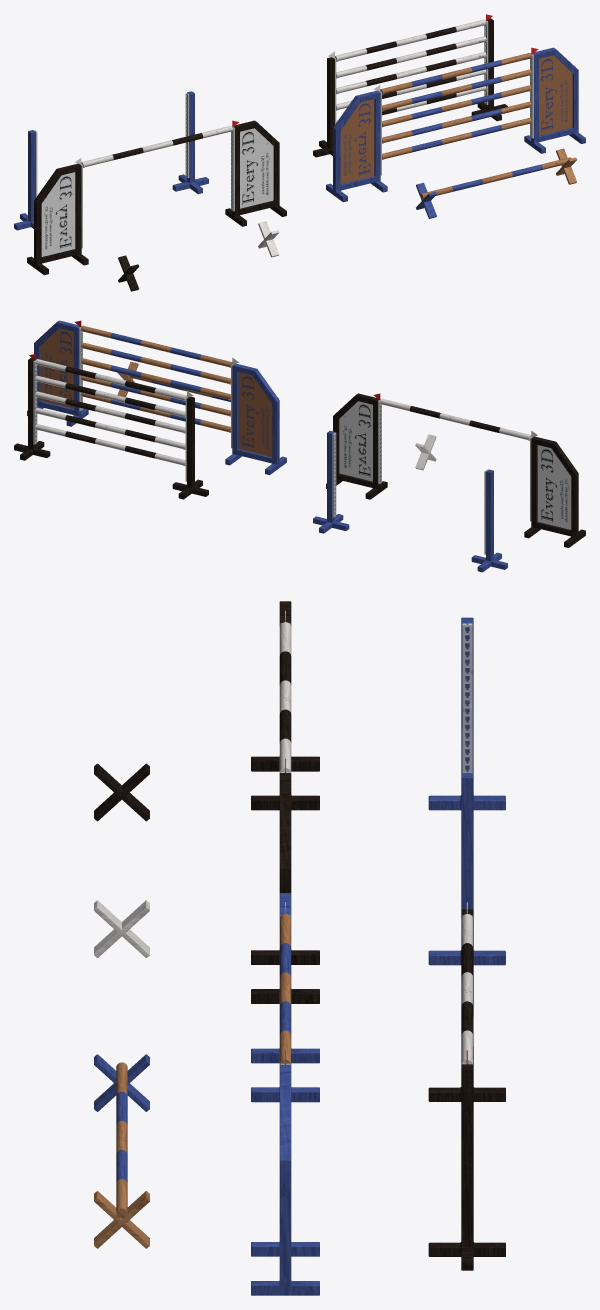
Rendered from jumps.glb.
3 views of the same model, one above another, from view 1: azimuth 30°, elevation 25°; view 2: azimuth 150°, elevation 25°; view 3: azimuth 270°, elevation 25° (orthographic). The views are drawn at different scales.
Parts seen in each view (by area): view 1: BarrierEvery3D, Barrier2, HalfBarrier2Every3D, HalfBarrier1Every3D, Barrier1, HalfBarrier1, HalfBarrier2, Pole, Cavaletti2, Cavaletti1; view 2: BarrierEvery3D, Barrier2, HalfBarrier2Every3D, HalfBarrier1Every3D, HalfBarrier2, HalfBarrier1, Pole, Barrier1, Cavaletti1; view 3: BarrierEvery3D, Barrier2, Barrier1, HalfBarrier1Every3D, HalfBarrier2, HalfBarrier1, HalfBarrier2Every3D, Pole, Cavaletti1, Cavaletti2.
Part boxes in pixels (x1,y1,x2,y2): BarrierEvery3D: (326, 47, 585, 202); Barrier2: (313, 14, 507, 157); HalfBarrier2Every3D: (27, 163, 88, 275); HalfBarrier1Every3D: (225, 120, 286, 226); Barrier1: (416, 148, 576, 218); HalfBarrier1: (172, 91, 208, 194); HalfBarrier2: (14, 130, 37, 230); Pole: (81, 126, 232, 166); Cavaletti2: (118, 255, 139, 291); Cavaletti1: (258, 221, 279, 257); BarrierEvery3D: (27, 320, 286, 475); Barrier2: (14, 354, 208, 499); HalfBarrier2Every3D: (524, 436, 585, 547); HalfBarrier1Every3D: (326, 393, 387, 499); HalfBarrier2: (471, 469, 507, 572); HalfBarrier1: (313, 430, 349, 533); Pole: (380, 398, 531, 439); Barrier1: (117, 361, 278, 401); Cavaletti1: (415, 434, 436, 470); BarrierEvery3D: (251, 893, 319, 1295); Barrier2: (428, 902, 505, 1270); Barrier1: (94, 1054, 149, 1248); HalfBarrier1Every3D: (251, 772, 319, 1003); HalfBarrier2: (428, 617, 505, 810); HalfBarrier1: (428, 772, 505, 965); HalfBarrier2Every3D: (251, 601, 319, 810); Pole: (279, 622, 291, 772); Cavaletti1: (94, 900, 149, 957); Cavaletti2: (94, 763, 149, 821).
Size of the model in its own units: 10.88 by 1.92 by 3.58.
2 materials, 2 textured.
